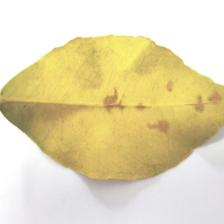black spot: (93, 79, 224, 132)
